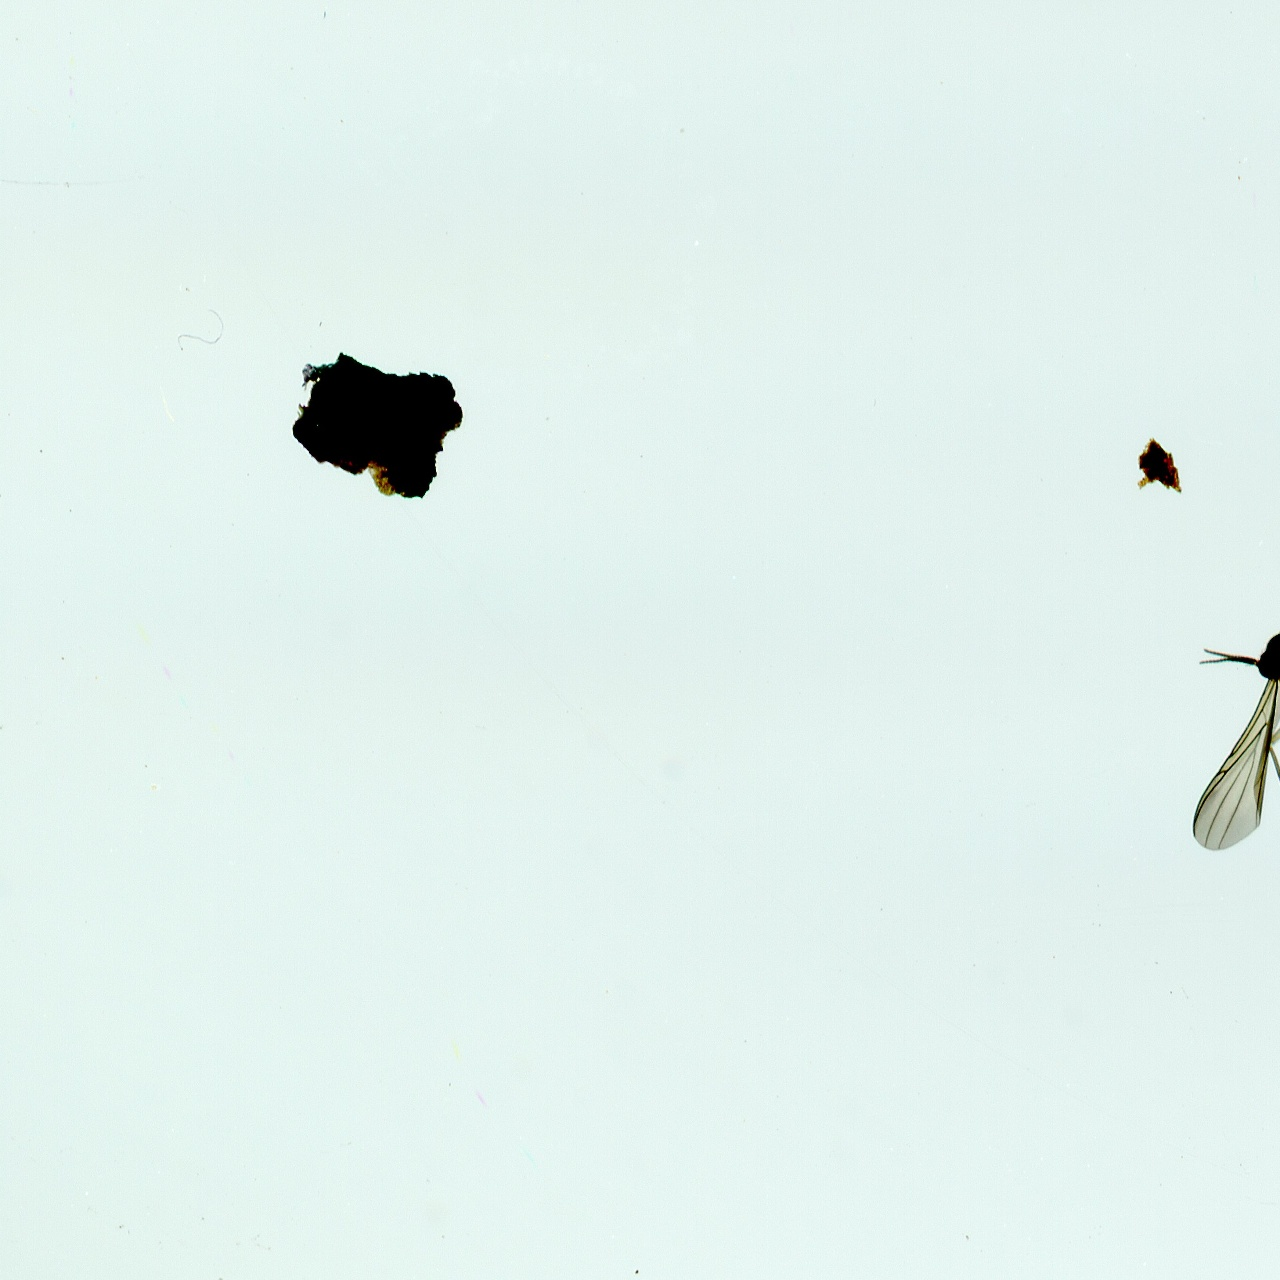arthropod: (1189, 588, 1280, 893)
